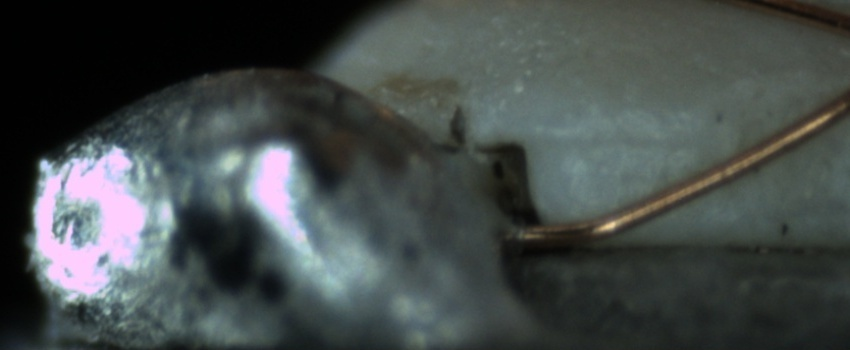DL: (552, 104, 706, 176)
